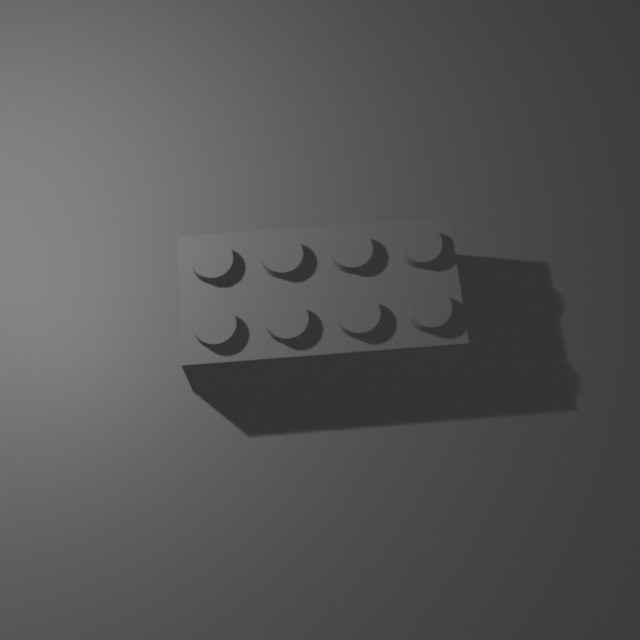lego_2x4: (176, 210, 471, 392)
